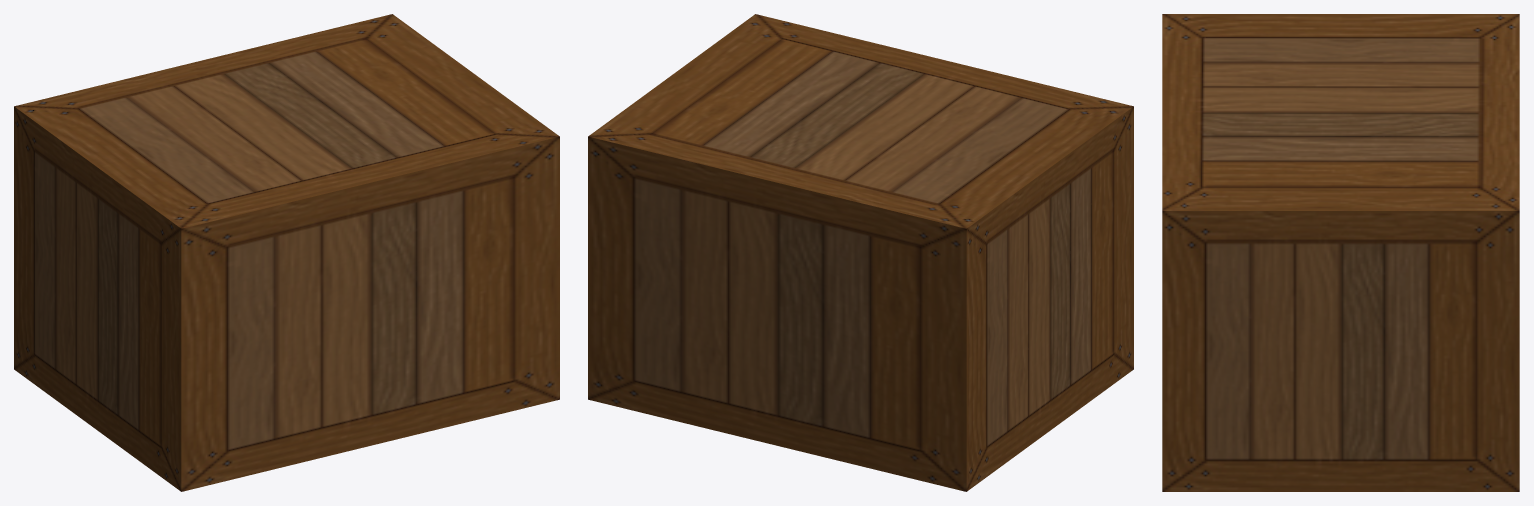
3 renders of one model, left to right at view 1: azimuth 30°, elevation 25°; view 2: azimuth 150°, elevation 25°; view 3: azimuth 270°, elevation 25°, orthographic. The views are drawn at different scales.
Visible parts, largest first — view 1: pCube1; view 2: pCube1; view 3: pCube1.
Boxes of the visible parts, x1,y1,x2,y2 form: pCube1: (14, 14, 559, 491); pCube1: (588, 14, 1133, 491); pCube1: (1162, 14, 1519, 491).
Size of the model in its own units: 4.29 by 2.85 by 3.29.
Materials: 1 (1 with a texture image).
